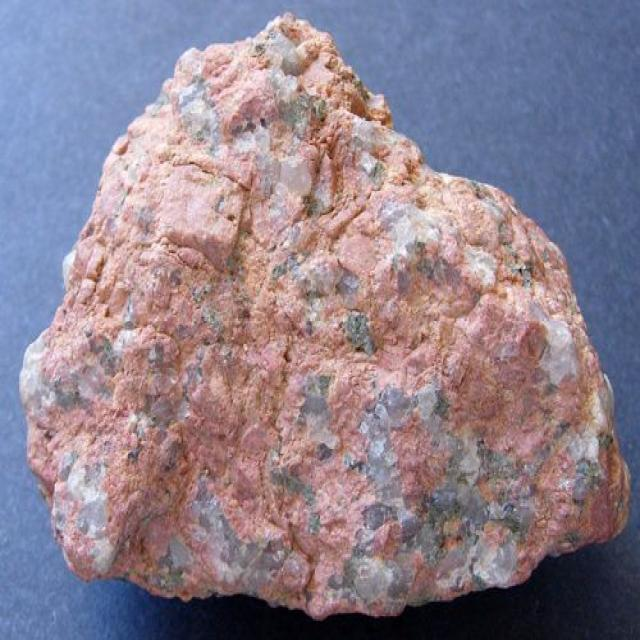Igneous: (18, 8, 634, 629)
